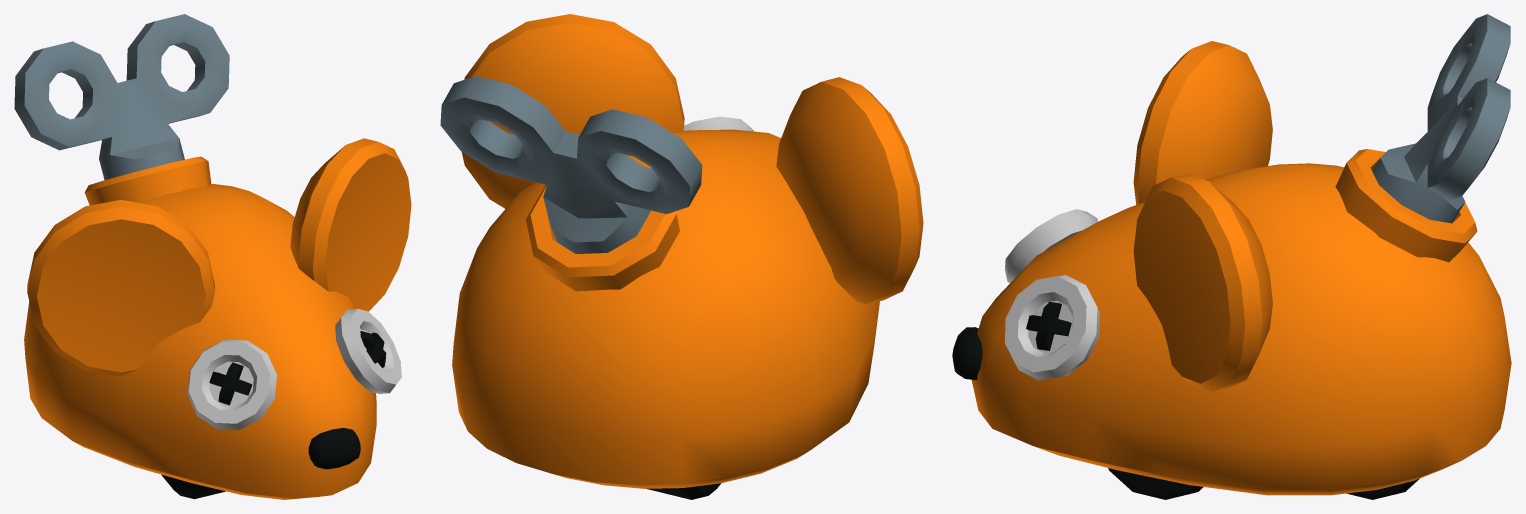
The model's file is toymouse_yellow.obj.
3 views of the same model, side by side, from view 1: azimuth 30°, elevation 25°; view 2: azimuth 150°, elevation 25°; view 3: azimuth 270°, elevation 25° (orthographic). The views are drawn at different scales.
Parts seen in each view (by area): view 1: toymouse_yellow__Sphere.040, toymouse_yellow_key_Cylinder.110; view 2: toymouse_yellow__Sphere.040, toymouse_yellow_key_Cylinder.110; view 3: toymouse_yellow__Sphere.040, toymouse_yellow_key_Cylinder.110.
Part boxes in pixels (left/top/right/bottom): toymouse_yellow__Sphere.040: left=24, top=138, right=411, bottom=499; toymouse_yellow_key_Cylinder.110: left=14, top=14, right=229, bottom=180; toymouse_yellow__Sphere.040: left=452, top=14, right=923, bottom=499; toymouse_yellow_key_Cylinder.110: left=440, top=76, right=702, bottom=253; toymouse_yellow__Sphere.040: left=952, top=41, right=1511, bottom=499; toymouse_yellow_key_Cylinder.110: left=1372, top=14, right=1510, bottom=223.
Bounding box in the file's own units: 0.6993 × 0.6073 × 0.76.
